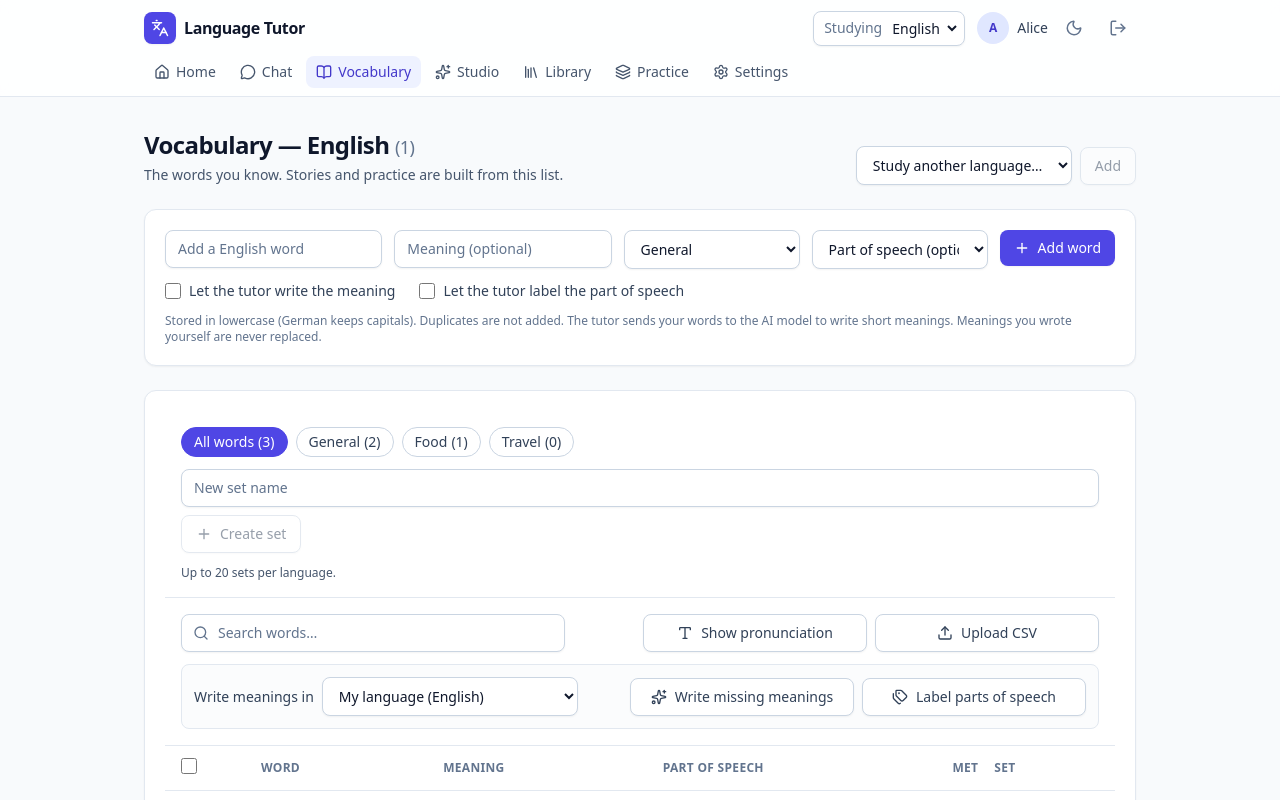
Test: meanings written by the tutor › asks again until no word is left without a meaning
What coordinates should you click on to do the following:
click the button "Write missing meanings"
I would click on:
 (742, 696)
Its box is [630,678,854,716].
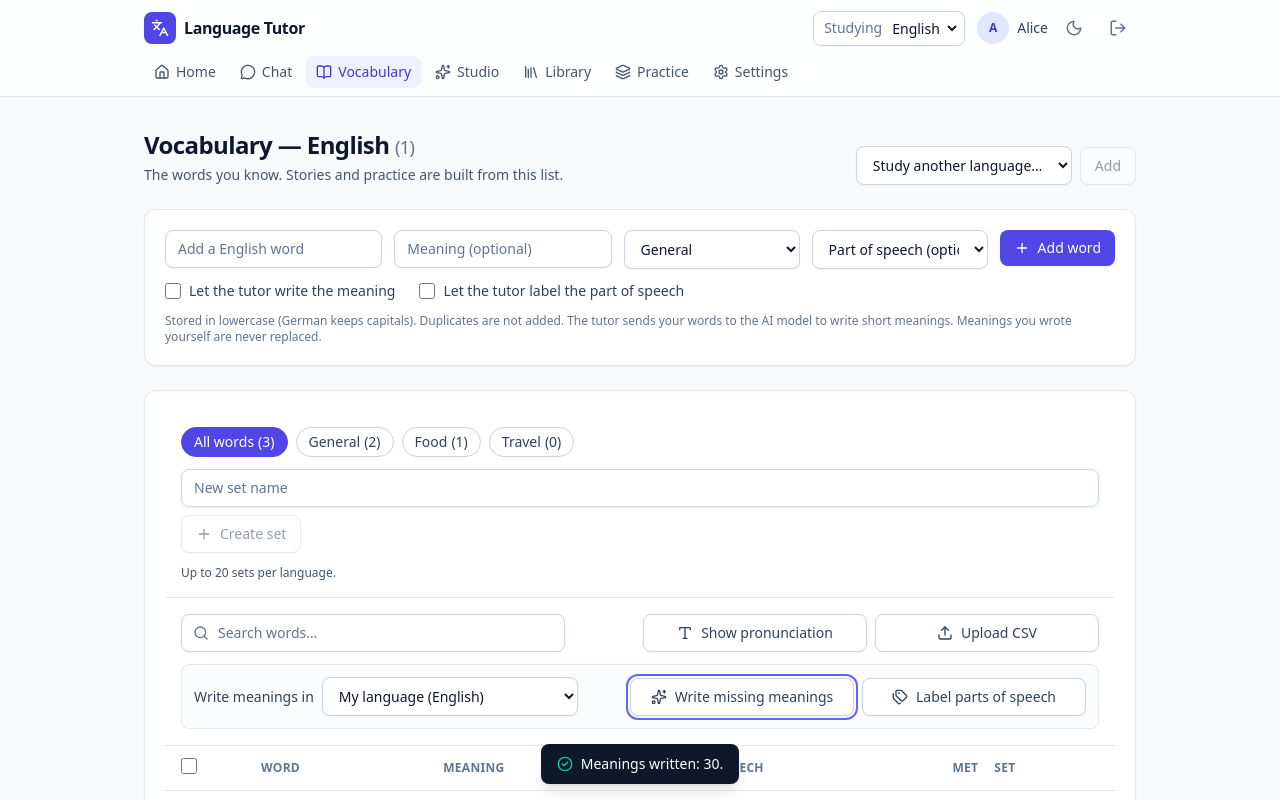
Expected: the text "Meanings written: 30." is shown, [541,744,739,784]
